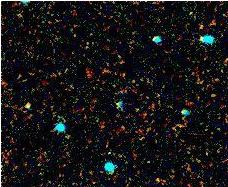star: (11, 89, 41, 119)
